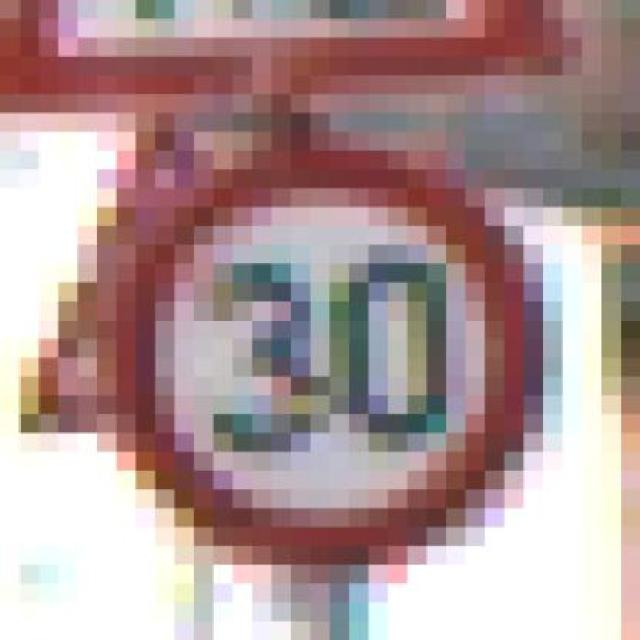Speed Limit 30 KMPh: (19, 150, 621, 584)
